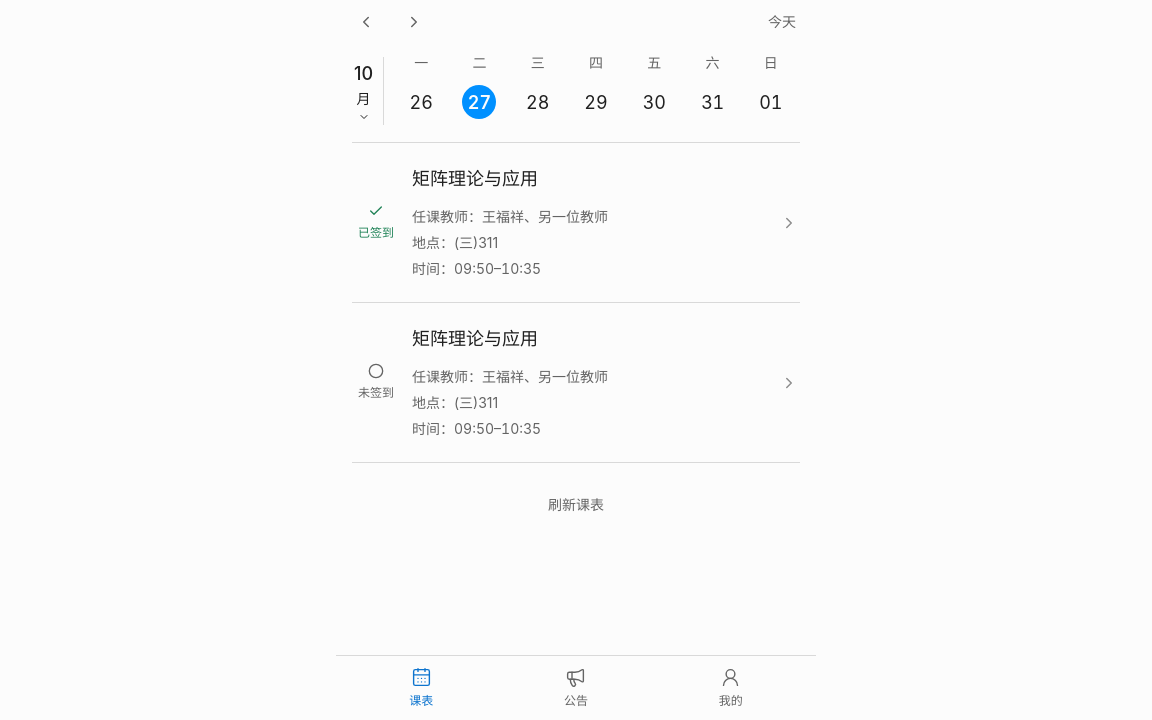
Test case: mobile routes and course interactions › signed=true reserved=false › renders the detail status and decorative icon
This screenshot has width=1152, height=720.
Click the button "已签到 矩阵理论与应用 任课教师：王福祥、另一位教师 地点：(三)311 时间：09:50–10:35". click: (576, 223)
box: [352,143,800,302]
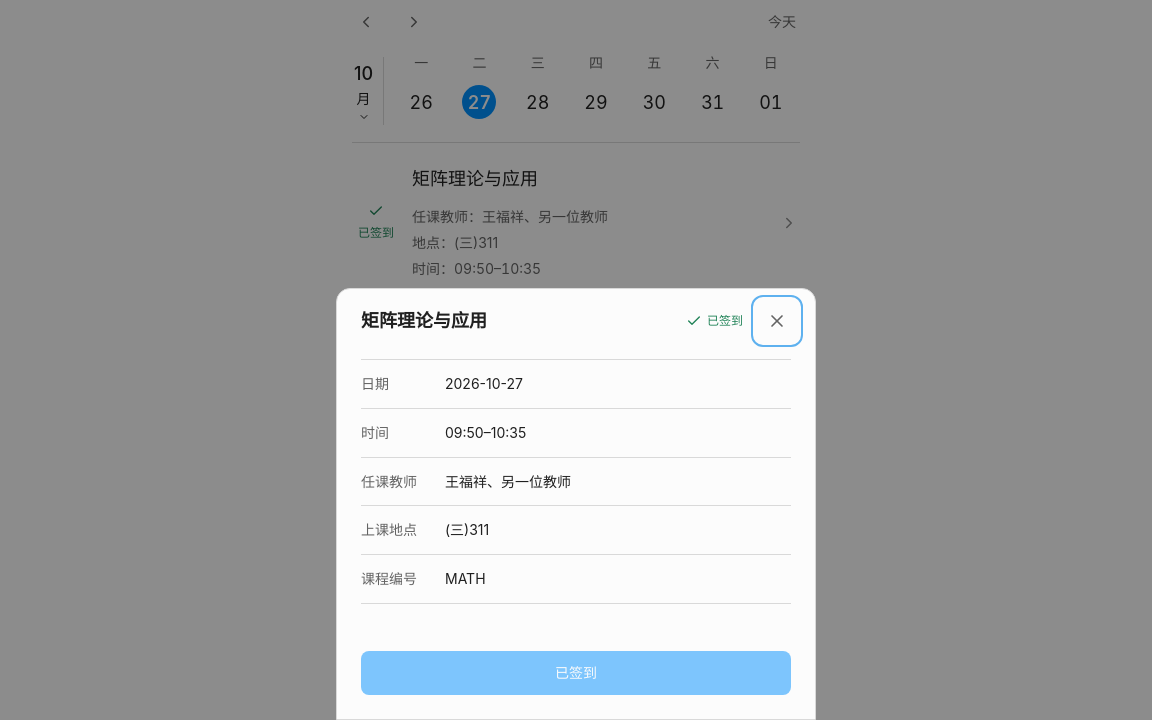
Result: the element with class "detail-status" reads "已签到" at [707,313,743,328]
